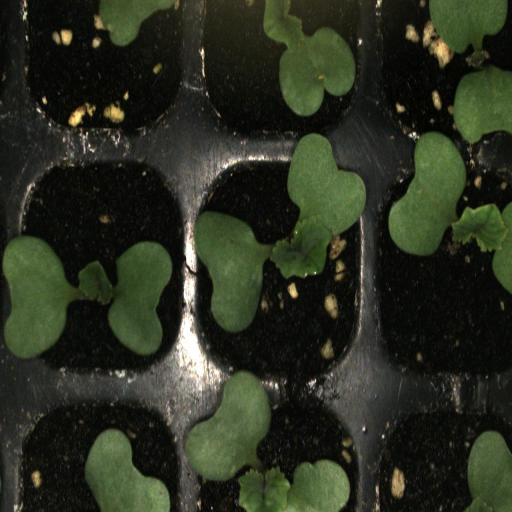Folha: (181, 0, 356, 117), (85, 428, 171, 512), (452, 66, 512, 144), (429, 0, 512, 54), (465, 430, 512, 512), (99, 0, 175, 47)
Germinacao: (189, 137, 374, 389), (13, 139, 186, 386), (376, 139, 512, 389), (186, 385, 370, 512), (379, 0, 512, 144)
